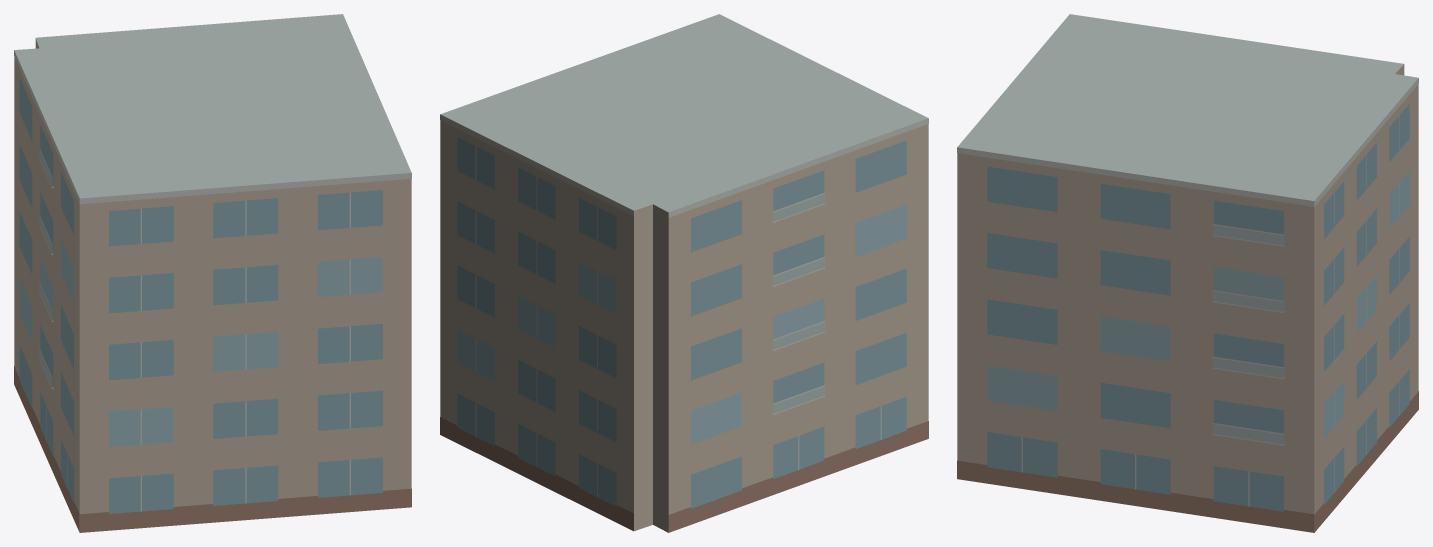
Rendered from survey-upis-32972256.glb.
3 renders of one model, left to right at view 1: azimuth 30°, elevation 25°; view 2: azimuth 150°, elevation 25°; view 3: azimuth 270°, elevation 25°, orthographic. The views are drawn at different scales.
Parts seen in each view (by area): view 1: survey-upis-32972256.tmp; view 2: survey-upis-32972256.tmp; view 3: survey-upis-32972256.tmp.
Part boxes in pixels (bbox=[...]): survey-upis-32972256.tmp: bbox=[14, 14, 411, 532]; survey-upis-32972256.tmp: bbox=[440, 14, 928, 532]; survey-upis-32972256.tmp: bbox=[957, 14, 1418, 532].
Size of the model in its own units: 16.88 by 13.95 by 17.6.
